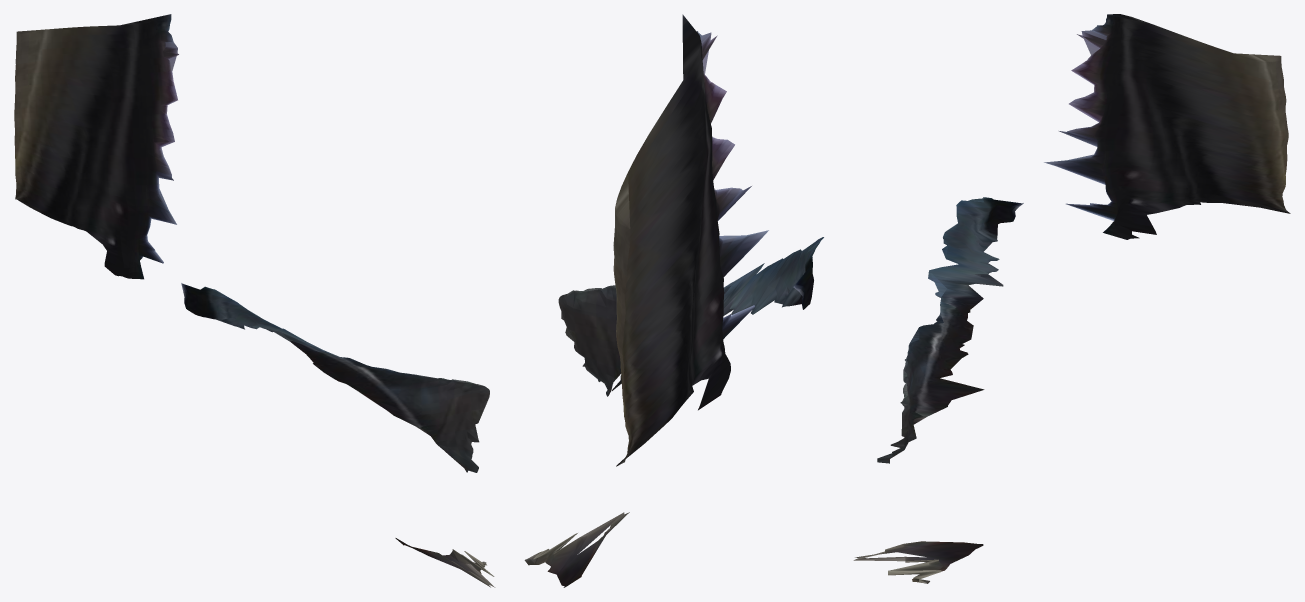
The model's file is observed-surface.glb.
3 views of the same model, side by side, from view 1: azimuth 30°, elevation 25°; view 2: azimuth 150°, elevation 25°; view 3: azimuth 270°, elevation 25° (orthographic). The views are drawn at different scales.
Parts seen in each view (by area): view 1: geometry_0; view 2: geometry_0; view 3: geometry_0.
Boxes of the visible parts, left/top/right/bottom form: geometry_0: left=14, top=14, right=495, bottom=587; geometry_0: left=524, top=14, right=823, bottom=587; geometry_0: left=853, top=14, right=1290, bottom=583.
Bounding box in the file's own units: 0.4112 × 0.7585 × 0.627.
Materials: 1 (1 with a texture image).
